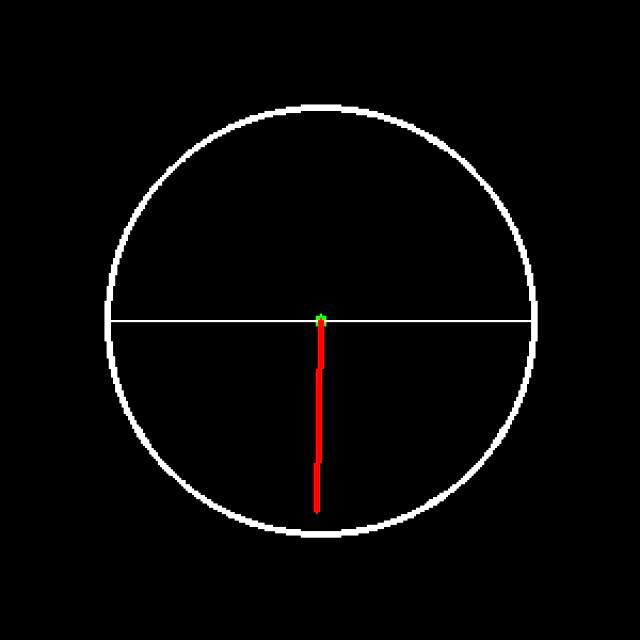Needle_Tip: (296, 476, 337, 523)
Needle_base: (285, 299, 358, 361)
